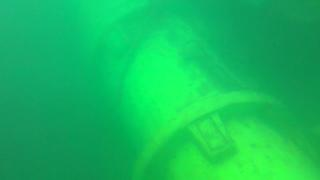pipe: (36, 1, 320, 180)
